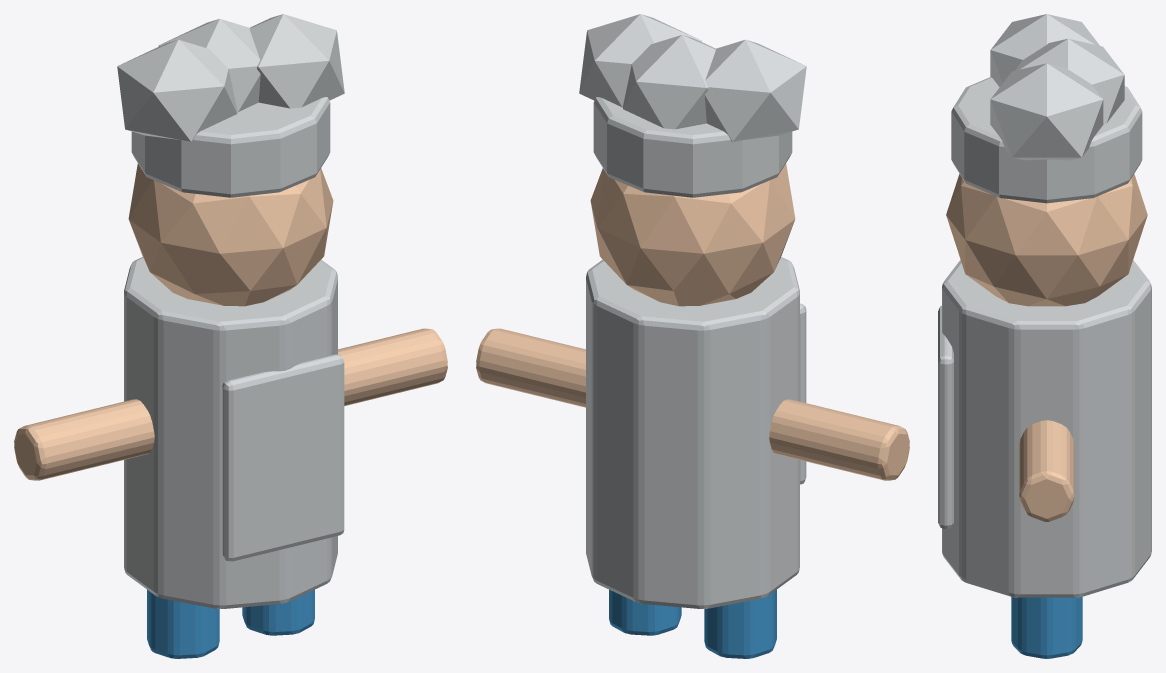
Rendered from Chef.fbx.
3 renders of one model, left to right at view 1: azimuth 30°, elevation 25°; view 2: azimuth 150°, elevation 25°; view 3: azimuth 270°, elevation 25°, orthographic. The views are drawn at different scales.
Parts seen in each view (by area): view 1: Body.002, Apron, Head, HatBand, HatPuff_-0.22, Arm_-0.5, HatPuff_0.22, Arm_0.5, Leg_-0.2, HatPuff_0, Leg_0.2; view 2: Body.002, Head, HatBand, HatPuff_-0.22, Arm_-0.5, HatPuff_0, Arm_0.5, HatPuff_0.22, Leg_-0.2, Leg_0.2, Apron; view 3: Body.002, Head, HatBand, HatPuff_0.22, Arm_0.5, Leg_0.2, HatPuff_0, HatPuff_-0.22, Apron.
Boxes of the visible parts, bbox=[...] form: Body.002: bbox=[124, 257, 337, 608]; Apron: bbox=[222, 354, 344, 561]; Head: bbox=[128, 163, 333, 306]; HatBand: bbox=[131, 97, 330, 197]; HatPuff_-0.22: bbox=[117, 39, 237, 141]; Arm_-0.5: bbox=[14, 399, 154, 480]; HatPuff_0.22: bbox=[249, 14, 344, 108]; Arm_0.5: bbox=[338, 328, 447, 405]; Leg_-0.2: bbox=[147, 589, 219, 658]; HatPuff_0: bbox=[158, 19, 260, 111]; Leg_0.2: bbox=[242, 589, 314, 635]; Body.002: bbox=[586, 257, 799, 608]; Head: bbox=[590, 163, 795, 306]; HatBand: bbox=[593, 97, 792, 197]; HatPuff_-0.22: bbox=[704, 39, 806, 141]; Arm_-0.5: bbox=[769, 399, 909, 480]; HatPuff_0: bbox=[622, 35, 715, 129]; Arm_0.5: bbox=[476, 328, 585, 407]; HatPuff_0.22: bbox=[579, 14, 701, 107]; Leg_-0.2: bbox=[704, 589, 776, 658]; Leg_0.2: bbox=[609, 589, 681, 635]; Apron: bbox=[800, 303, 806, 484]; Body.002: bbox=[942, 260, 1151, 597]; Head: bbox=[946, 174, 1147, 306]; HatBand: bbox=[951, 77, 1142, 203]; HatPuff_0.22: bbox=[990, 63, 1103, 160]; Arm_0.5: bbox=[1019, 420, 1074, 521]; Leg_0.2: bbox=[1011, 597, 1082, 658]; HatPuff_0: bbox=[1015, 38, 1124, 124]; HatPuff_-0.22: bbox=[990, 14, 1099, 87]; Apron: bbox=[938, 306, 953, 528].
Bounding box in the file's own units: 1.72 × 2.43 × 0.8055.
